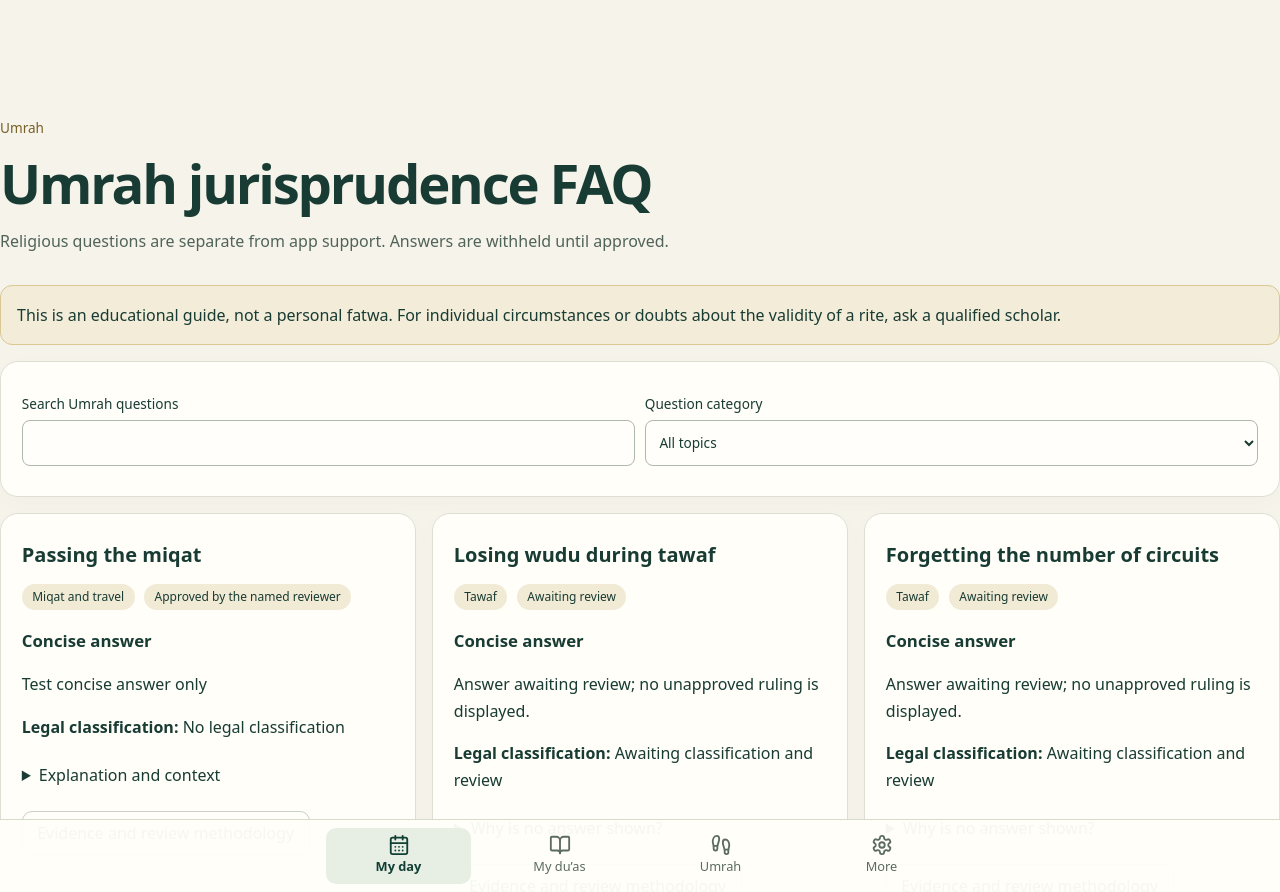
Test case: renders independently approved bilingual FAQ fixtures with concise detail and evidence views
This screenshot has width=1280, height=892.
(page scrolled)
Type "miqat" into the search field labelled "Search Umrah questions" at (328, 443), box [22,420,635,466]
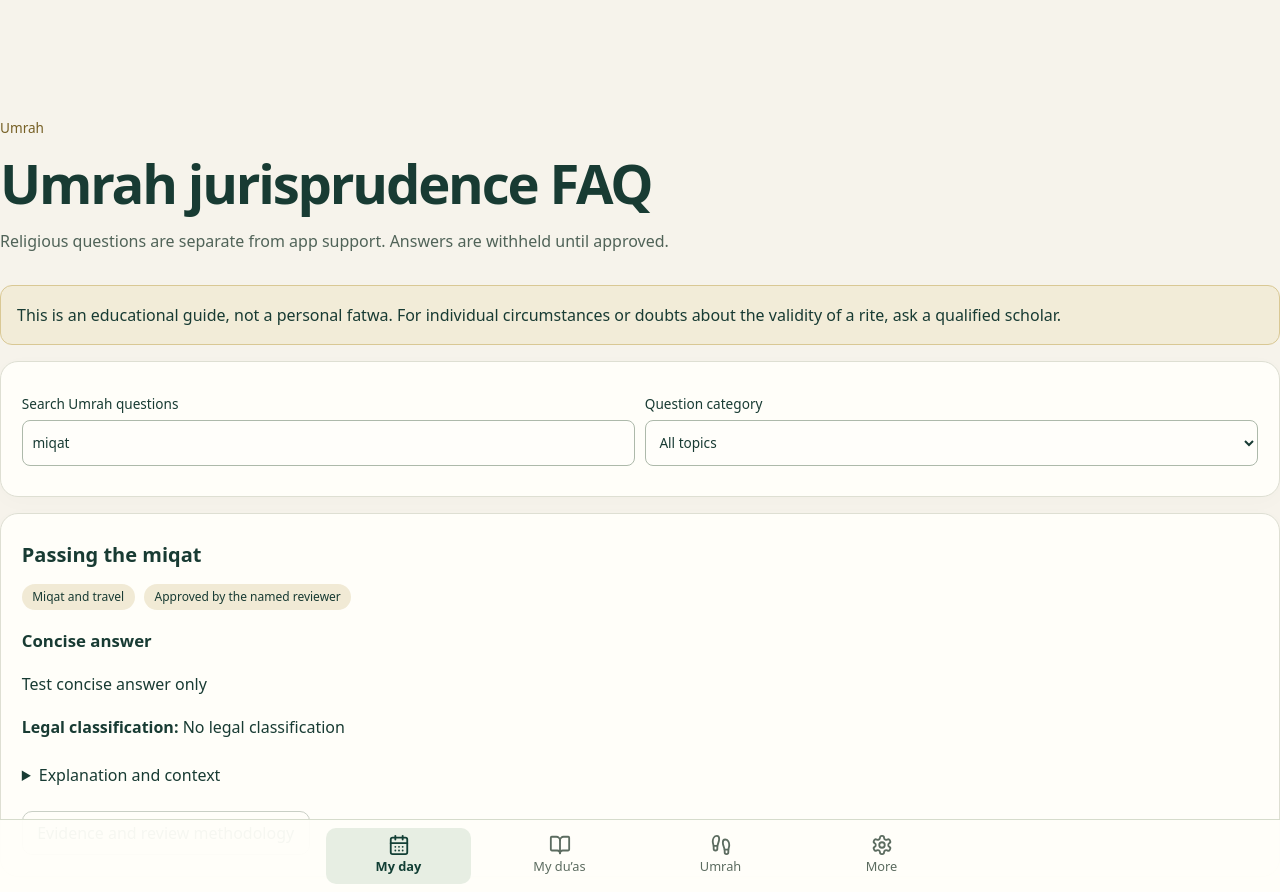
Expected: the text "Test concise answer only" is shown, [22,673,207,695]
Click the heading "Explanation and context" at (130, 775), box [39,764,220,786]
(page scrolled)
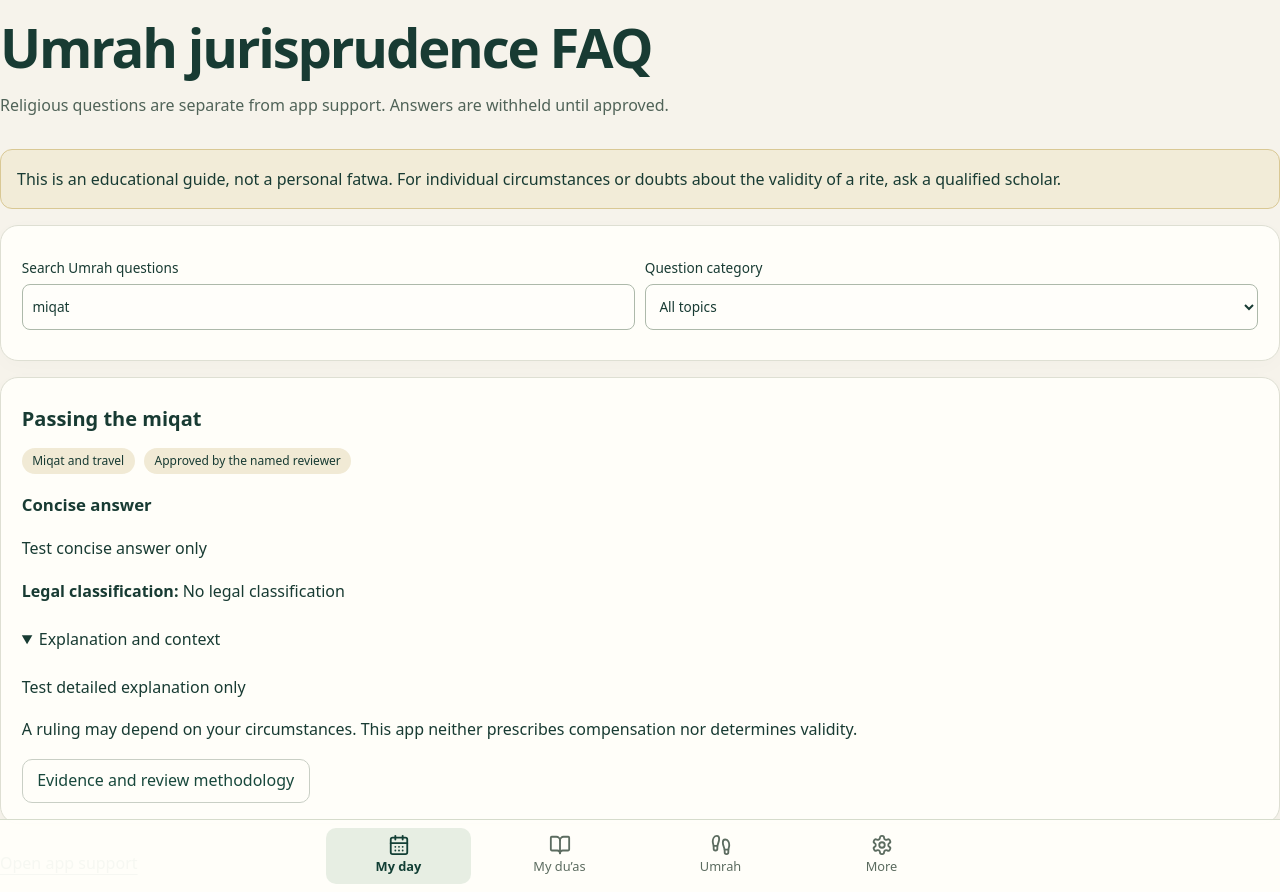
Now the text "Test detailed explanation only" is shown, box [22,676,246,698]
Click the button "Evidence and review methodology" at (166, 781), box [22,759,310,803]
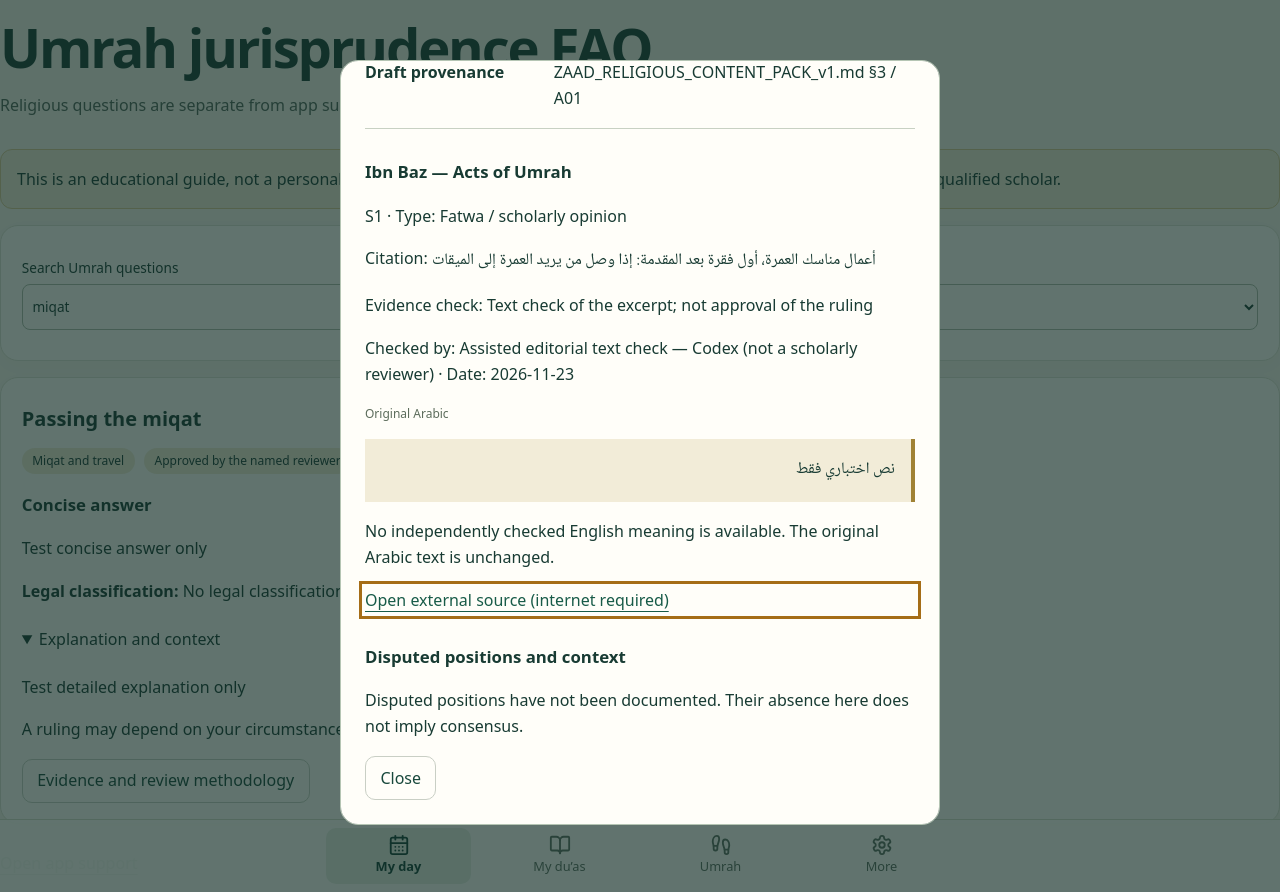
Now the dialog is shown, box [340,60,940,824]
